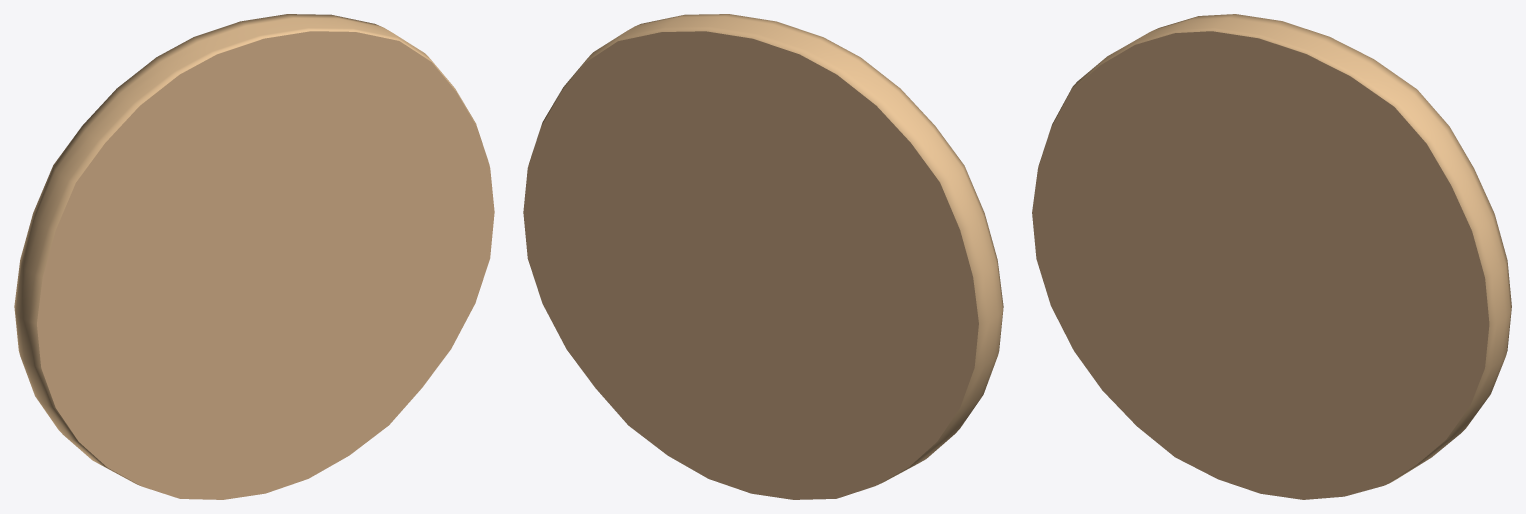
Rendered from coin.FBX.
The picture shows the model from 3 angles, left to right: view 1: azimuth 30°, elevation 25°; view 2: azimuth 150°, elevation 25°; view 3: azimuth 330°, elevation 25°; orthographic projection.
Visible parts, largest first — view 1: Circle; view 2: Circle; view 3: Circle.
Part boxes in pixels (left/top/right/bottom): Circle: left=14, top=14, right=494, bottom=499; Circle: left=523, top=14, right=1003, bottom=499; Circle: left=1032, top=14, right=1511, bottom=499.
Size of the model in its own units: 41.88 by 38.84 by 3.64.
